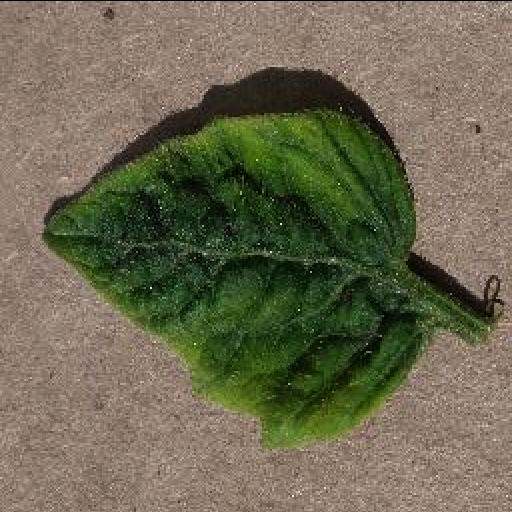disease_tomato: (44, 102, 432, 446)
